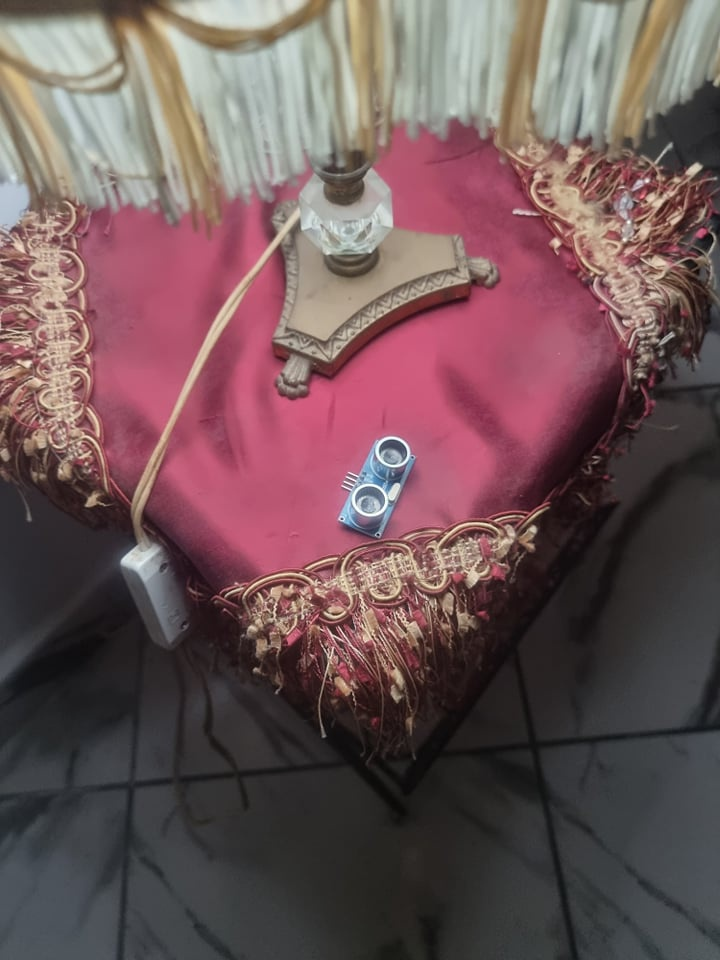SENSOR: (338, 435, 415, 539)
